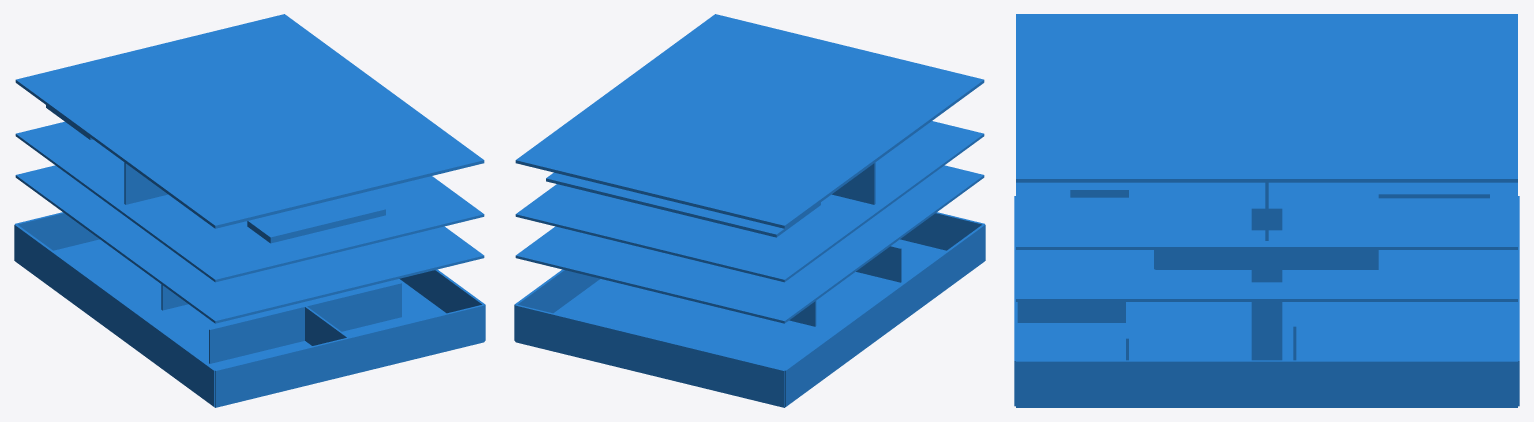
Rendered from PathFinder_Admin_Block.obj.
The picture shows the model from 3 angles, left to right: view 1: azimuth 30°, elevation 25°; view 2: azimuth 150°, elevation 25°; view 3: azimuth 270°, elevation 25°; orthographic projection. The views are drawn at different scales.
Parts seen in each view (by area): view 1: PathFinder_Admin_Block; view 2: PathFinder_Admin_Block; view 3: PathFinder_Admin_Block.
Part boxes in pixels (x1=…): PathFinder_Admin_Block: x1=14, y1=14, x2=485, y2=407; PathFinder_Admin_Block: x1=514, y1=14, x2=985, y2=407; PathFinder_Admin_Block: x1=1014, y1=14, x2=1519, y2=407.
Size of the model in its own units: 28.25 by 18.65 by 36.25.
